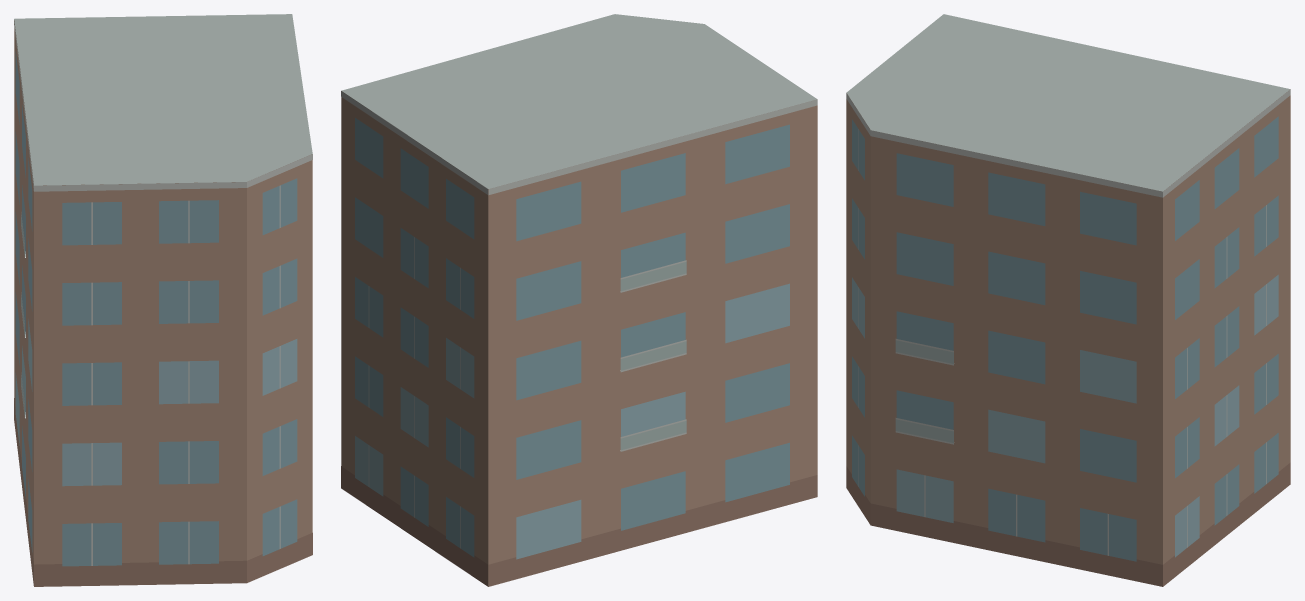
The model's file is survey-upis-32966512.glb.
3 views of the same model, side by side, from view 1: azimuth 30°, elevation 25°; view 2: azimuth 150°, elevation 25°; view 3: azimuth 270°, elevation 25° (orthographic).
Visible parts, largest first — view 1: survey-upis-32966512.tmp; view 2: survey-upis-32966512.tmp; view 3: survey-upis-32966512.tmp.
Boxes of the visible parts, x1,y1,x2,y2 form: survey-upis-32966512.tmp: (14,14,312,586); survey-upis-32966512.tmp: (341,14,817,586); survey-upis-32966512.tmp: (846,14,1290,586).
Bounding box in the file's own units: 15.38 × 15.95 × 16.25.
